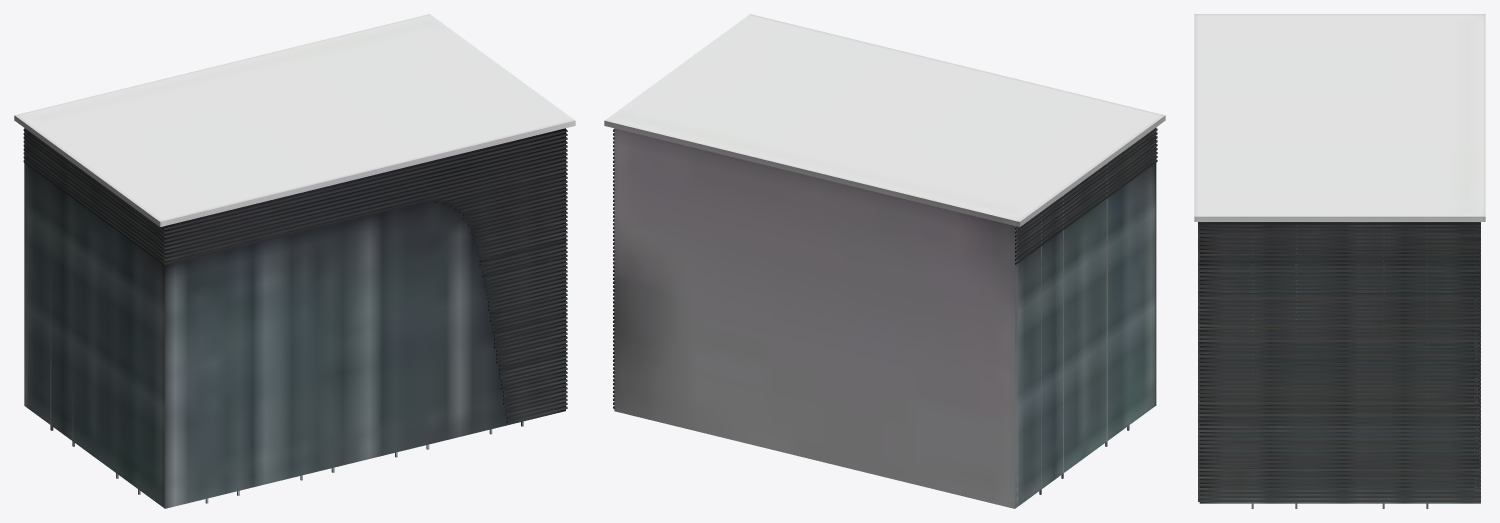
Rendered from car-showroom.lod1.glb.
3 views of the same model, side by side, from view 1: azimuth 30°, elevation 25°; view 2: azimuth 150°, elevation 25°; view 3: azimuth 270°, elevation 25° (orthographic).
Visible parts, largest first — view 1: Object001_Object001_mtl_0; view 2: Object001_Object001_mtl_0; view 3: Object001_Object001_mtl_0.
Boxes of the visible parts, bbox=[...] form: Object001_Object001_mtl_0: bbox=[14, 14, 575, 508]; Object001_Object001_mtl_0: bbox=[604, 14, 1165, 508]; Object001_Object001_mtl_0: bbox=[1194, 14, 1485, 508].
Size of the model in its own units: 18 by 12.24 by 10.94.
Materials: 1 (1 with a texture image).
